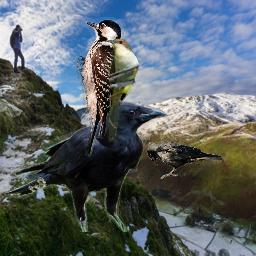Crow: (4, 101, 170, 232), (147, 141, 223, 179)
Cuckoo: (105, 38, 140, 142)
Woodpecker: (77, 16, 124, 160)
